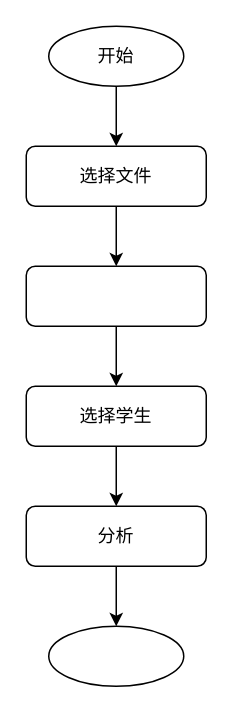
The diagram is 233 pixels wide and 713 high, and some of its shapes have lost their labels. The shapes that lost their labels are listed below. From the top down, each one's centre as x and y in pixels, then its label:
At [115,295]: "获取数据".
At [115,655]: "结束".
